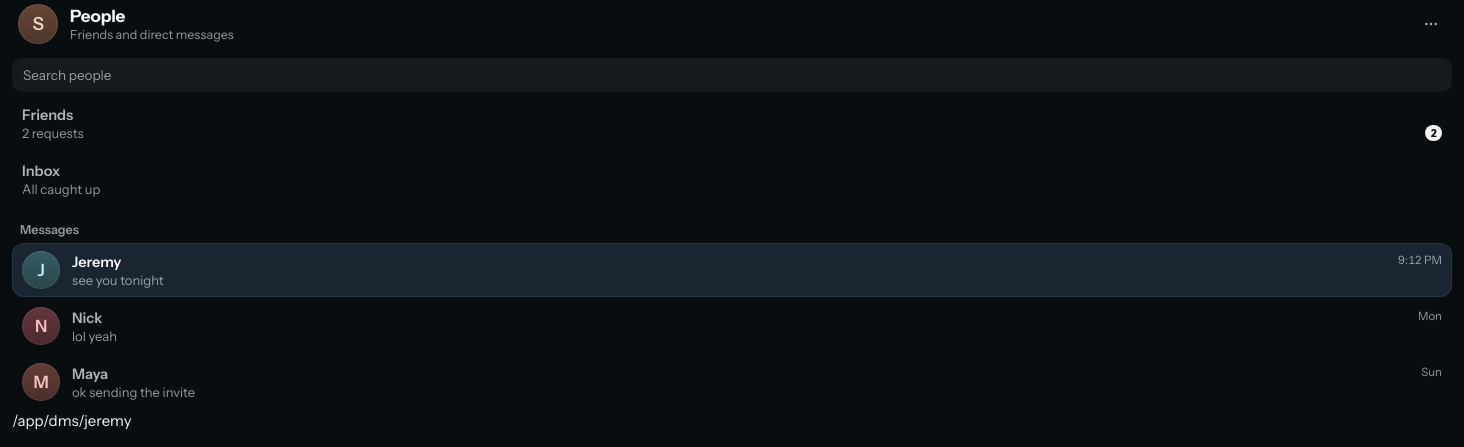
Test: Friends and Inbox › Friends opens its page and says what waits: the line, and a white count of requests
Step 1. Click the link with test id "ix-people-friends" → (48, 114), box [12,96,1452,150]
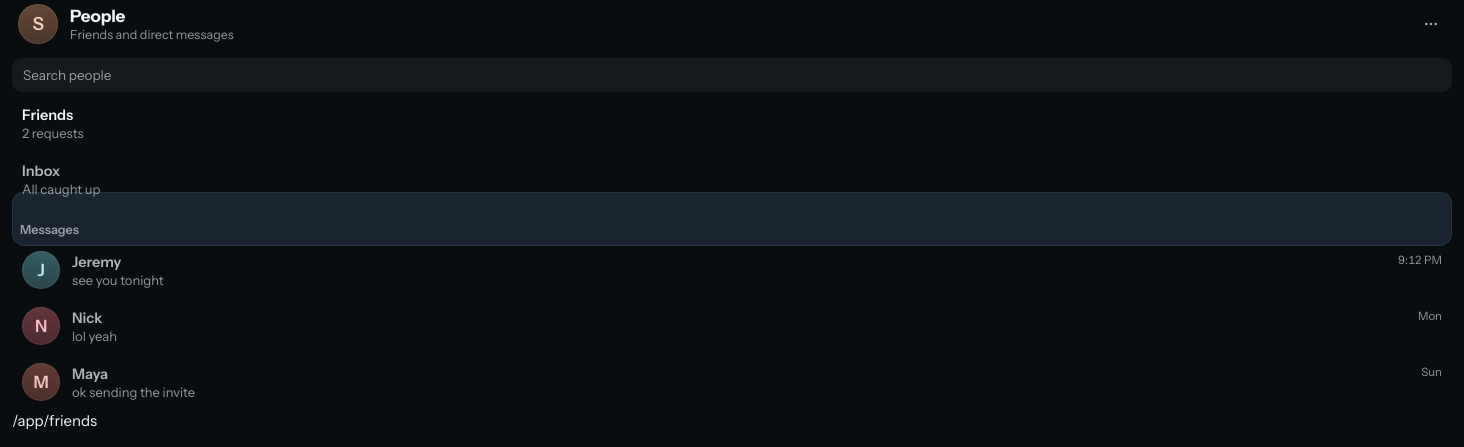
Now the text with test id "where" reads "/app/friends", box [12,411,97,430]
